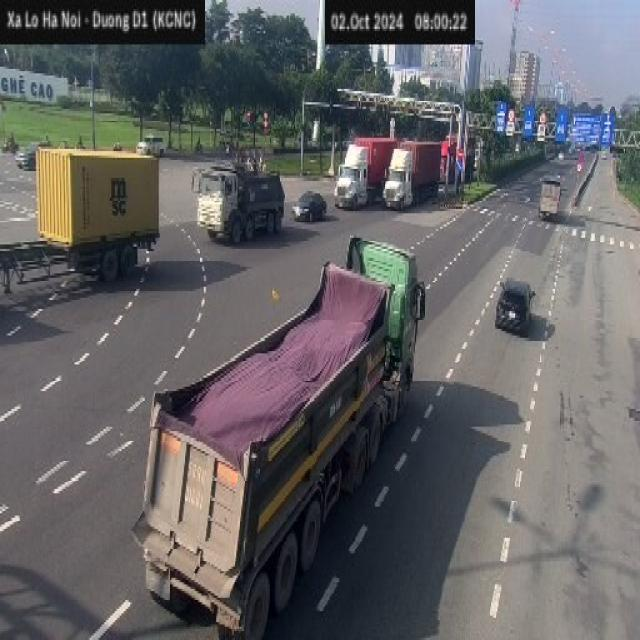car: (494, 276, 535, 336), (15, 138, 50, 171), (292, 189, 326, 222), (137, 132, 169, 155)
container-truck: (2, 153, 162, 292), (330, 136, 406, 210), (386, 136, 442, 211)
truck: (130, 233, 425, 638), (190, 160, 284, 242), (538, 172, 563, 230)
